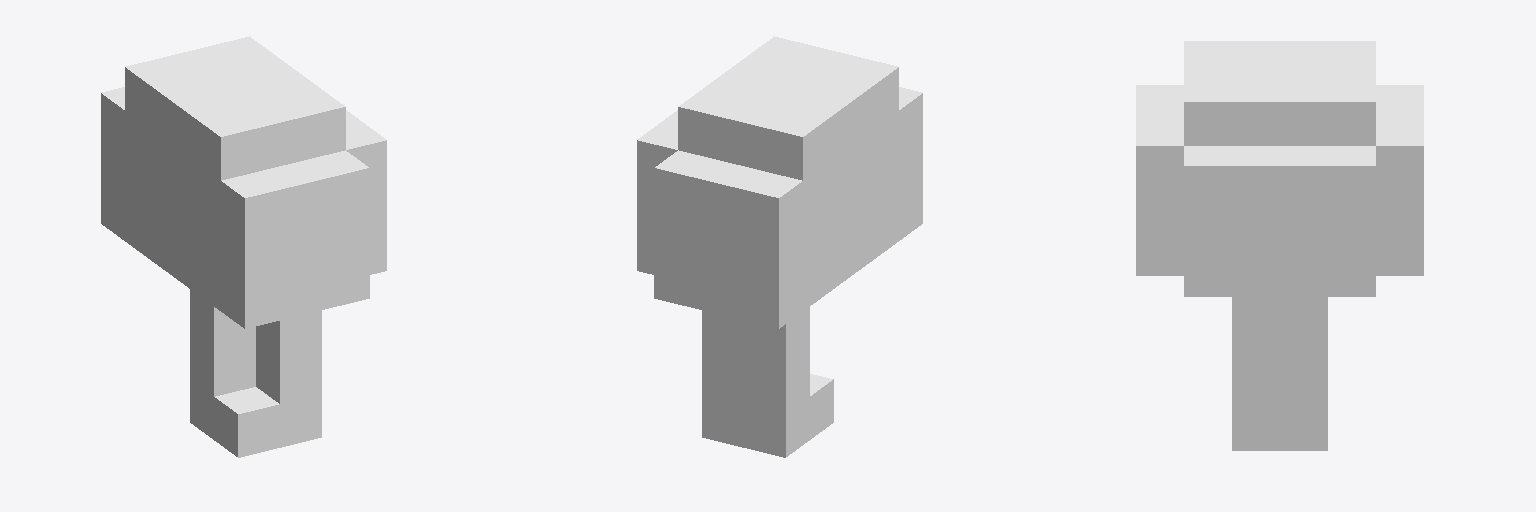
File: PlayerOrange-4-Player_LArm.obj
3 views of the same model, side by side, from view 1: azimuth 30°, elevation 25°; view 2: azimuth 150°, elevation 25°; view 3: azimuth 270°, elevation 25° (orthographic).
Parts seen in each view (by area): view 1: Player_LArm; view 2: Player_LArm; view 3: Player_LArm.
Part boxes in pixels (bbox=[...]): Player_LArm: bbox=[101, 36, 386, 457]; Player_LArm: bbox=[637, 36, 922, 457]; Player_LArm: bbox=[1136, 41, 1423, 450].
Size of the model in its own units: 0.8 by 1.6 by 1.2.